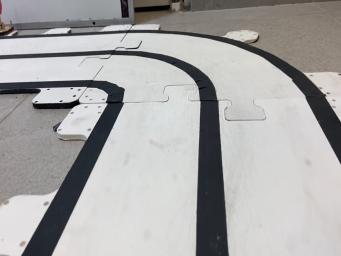stop: (0, 0, 14, 34), (0, 0, 14, 34), (0, 0, 14, 34), (0, 0, 14, 34), (0, 0, 14, 34), (0, 0, 14, 34)
street: (0, 28, 341, 256), (0, 28, 341, 256), (0, 28, 341, 256), (0, 28, 341, 256), (0, 28, 341, 256), (0, 28, 341, 256)
